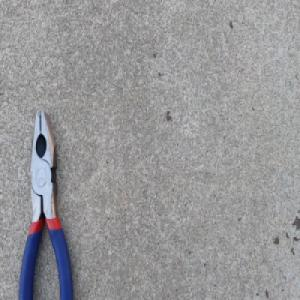Pliers: (18, 106, 74, 300)
